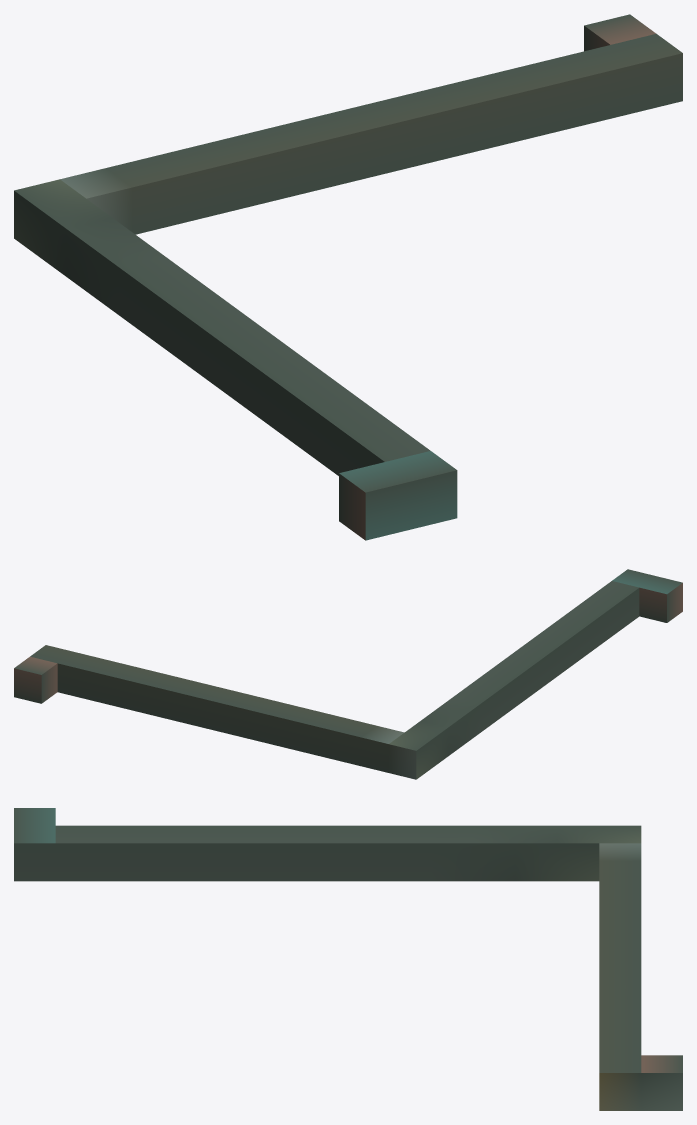
The model's file is KitchenRack_00.obj.
3 views of the same model, one above another, from view 1: azimuth 30°, elevation 25°; view 2: azimuth 150°, elevation 25°; view 3: azimuth 270°, elevation 25° (orthographic). The views are drawn at different scales.
Parts seen in each view (by area): view 1: KitchenRack_00; view 2: KitchenRack_00; view 3: KitchenRack_00.
Part boxes in pixels (x1,y1,x2,y2): KitchenRack_00: (14, 14, 682, 540); KitchenRack_00: (14, 569, 682, 779); KitchenRack_00: (14, 808, 682, 1110).
Bounding box in the file's own units: 0.75 × 0.05 × 0.8.
